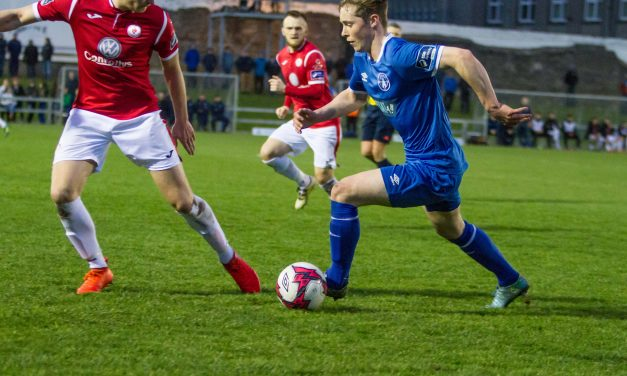soccer player: (1, 1, 263, 297), (325, 1, 539, 299), (261, 2, 344, 210)
soccerball: (276, 261, 329, 312)
